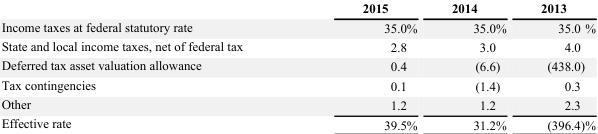table: (0, 0, 594, 131)
table column: (0, 0, 301, 131), (301, 0, 433, 131), (433, 0, 522, 131), (522, 0, 594, 131)
table column header: (0, 0, 594, 17)
table row: (0, 55, 594, 75), (0, 17, 594, 36), (0, 36, 594, 55), (0, 75, 594, 94), (0, 94, 594, 113), (0, 113, 594, 131), (0, 0, 594, 17)
